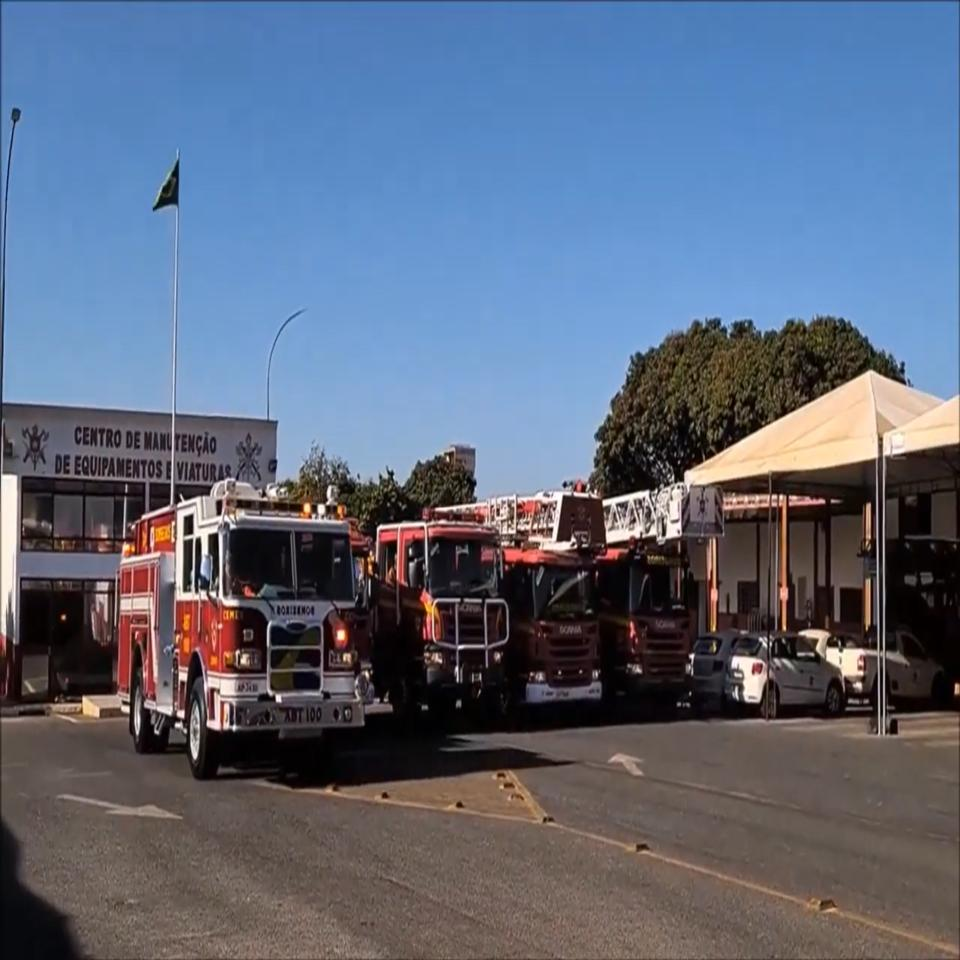viatura: (117, 478, 366, 775)
